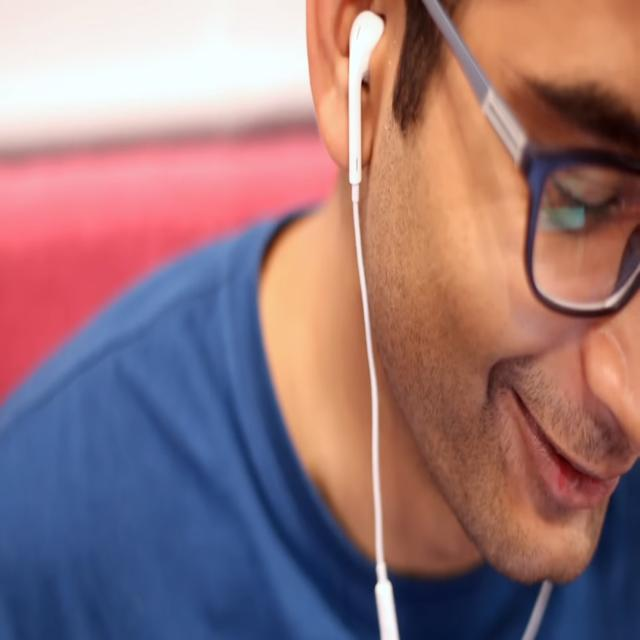Earphone: (347, 5, 398, 640)
